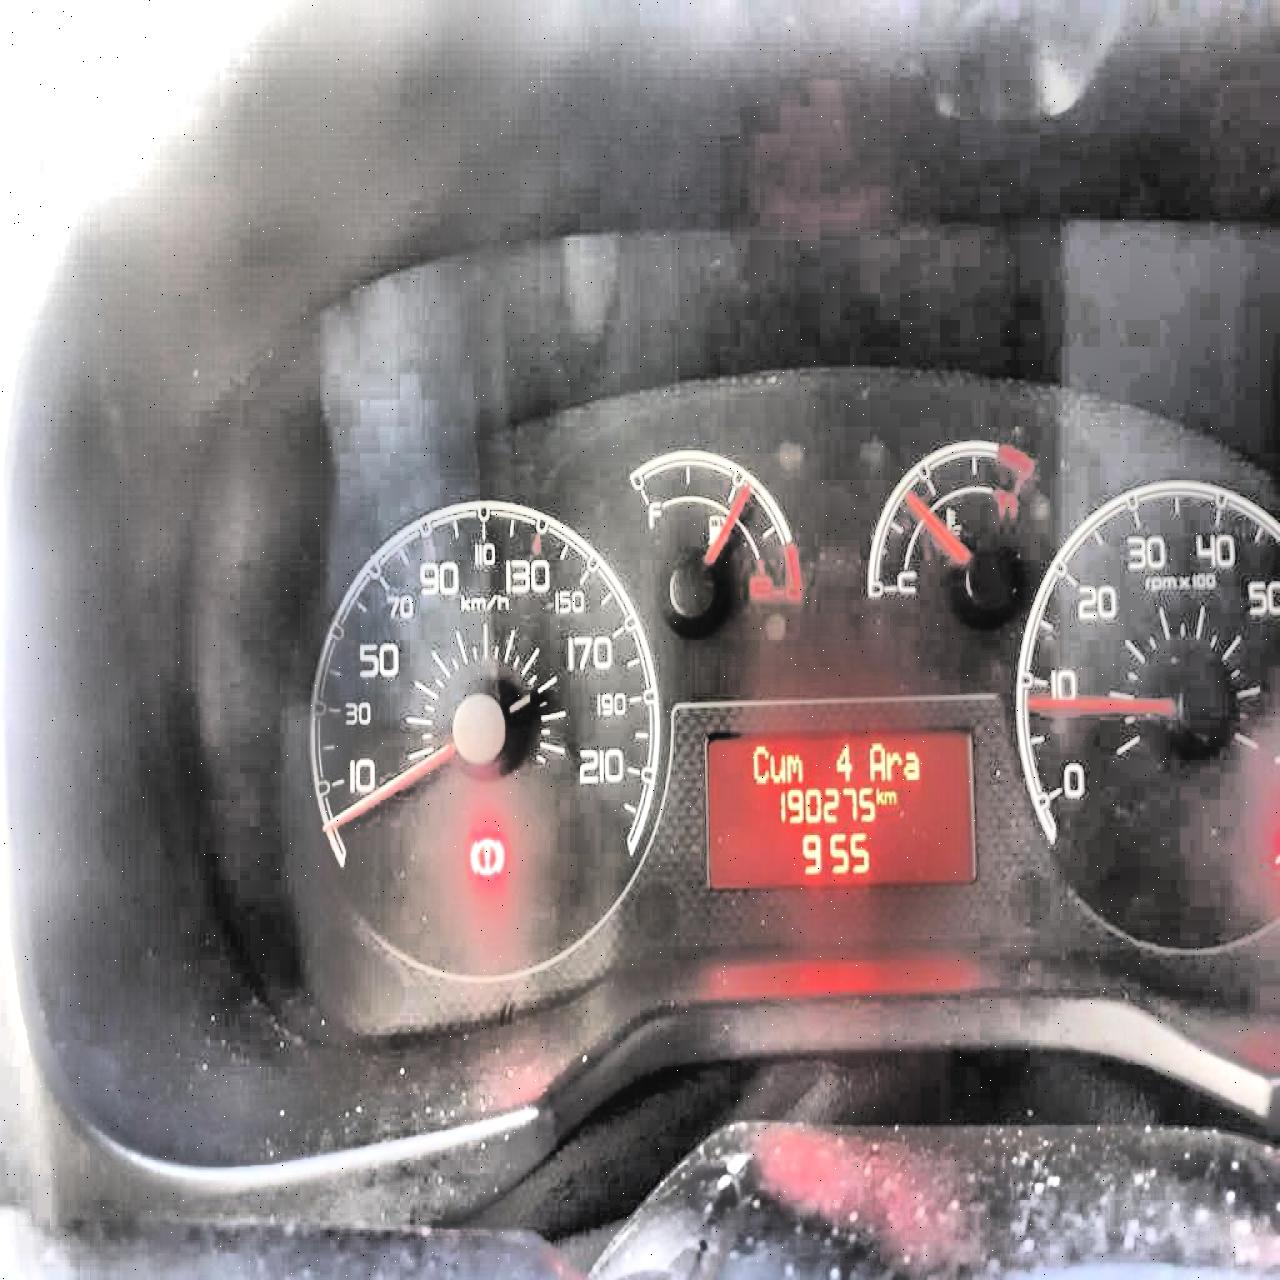0: (803, 784, 822, 823)
1: (774, 784, 787, 823)
2: (822, 784, 839, 823)
4: (831, 738, 853, 782)
5: (826, 830, 849, 873), (849, 829, 870, 873), (858, 783, 873, 824)
7: (838, 783, 858, 822)
9: (798, 830, 822, 874), (785, 787, 803, 823)
X: (750, 742, 769, 785), (866, 738, 885, 782), (785, 750, 803, 785), (903, 747, 920, 782), (885, 747, 901, 782), (768, 750, 784, 785), (884, 787, 897, 805), (874, 783, 884, 806)
odometer: (702, 726, 980, 892)
